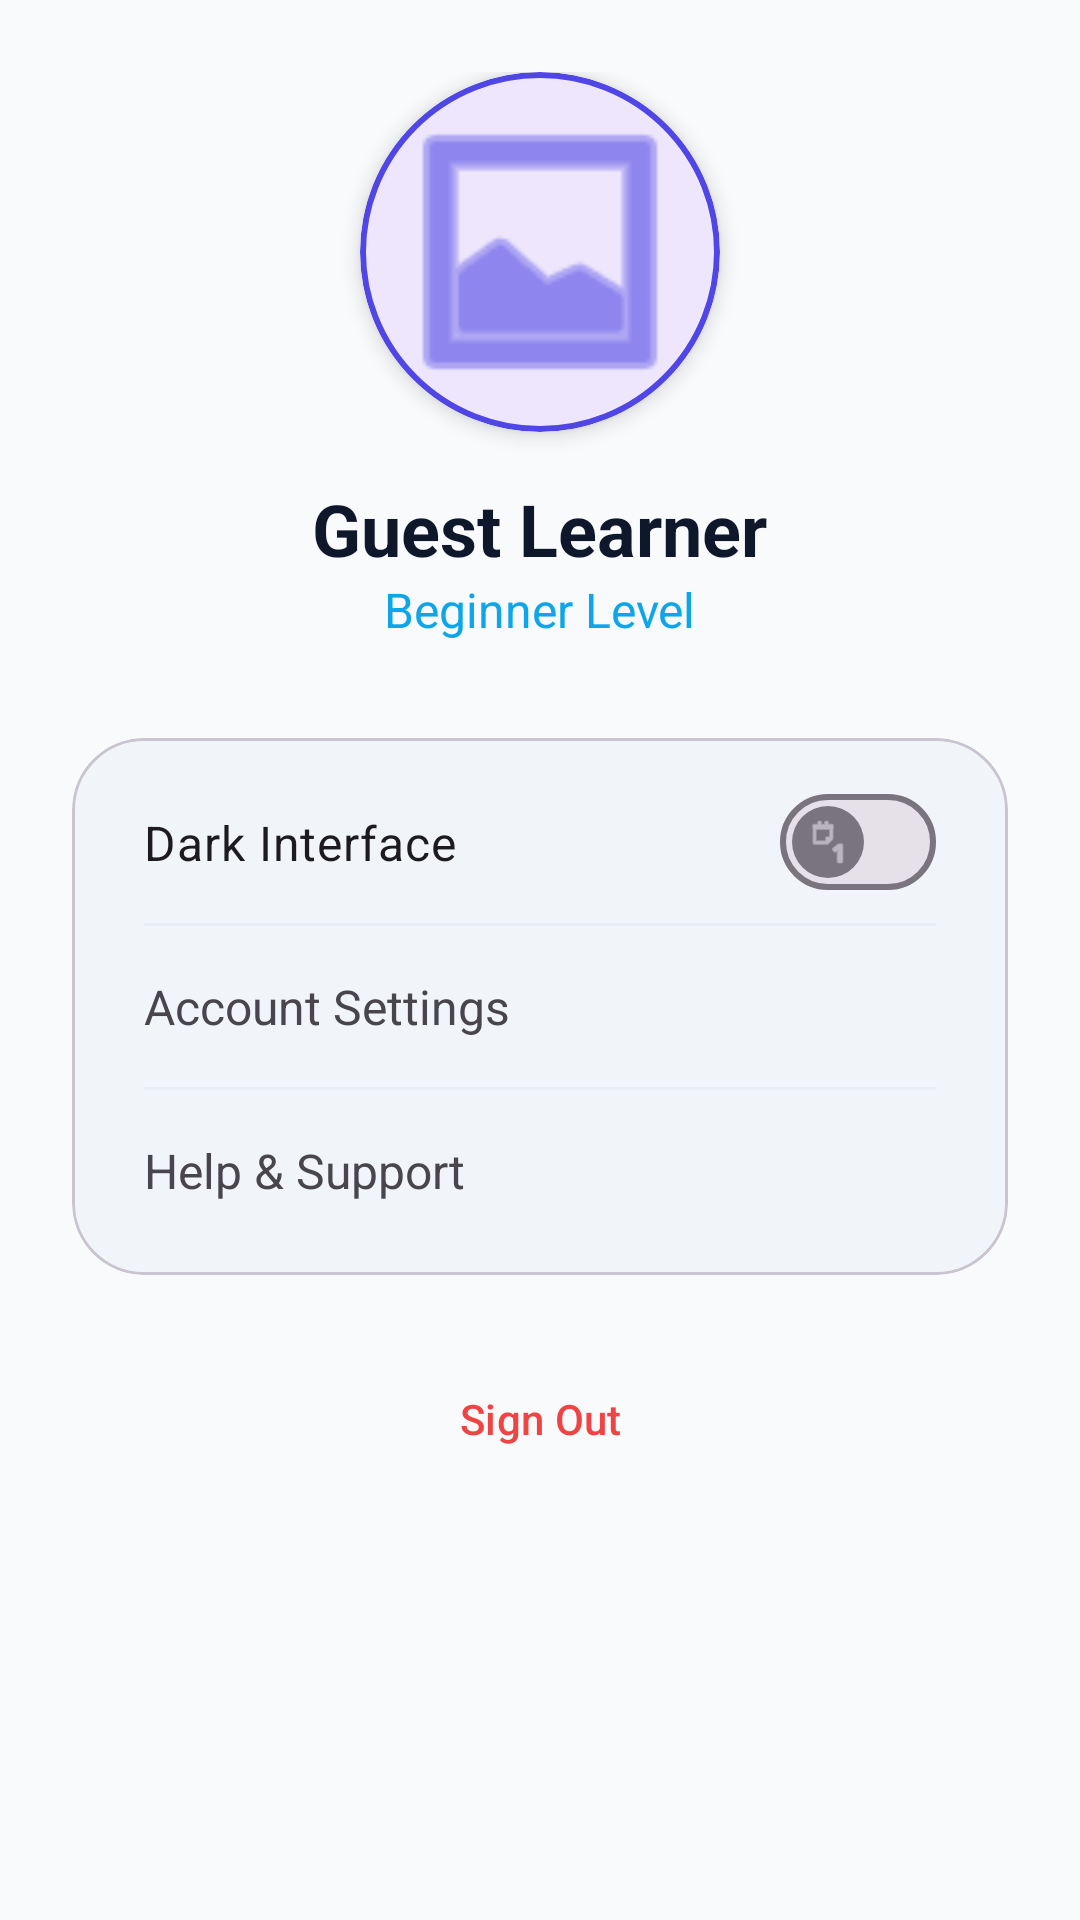

Icons on this 1080 × 1920 Android screen, each with its box as (x1, y1, x2, y2):
gallery: (360, 72, 720, 432)
